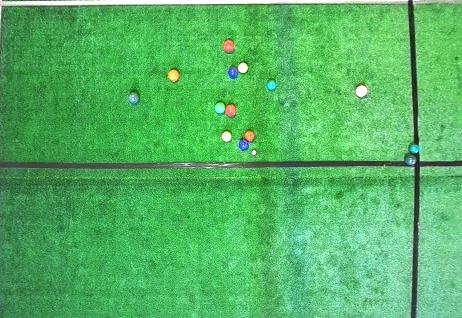blue: (228, 66, 238, 79), (239, 139, 249, 151)
green: (214, 101, 226, 115), (128, 92, 140, 104), (404, 155, 417, 166), (408, 143, 420, 154), (266, 80, 277, 91)
red: (355, 84, 368, 97), (223, 40, 235, 53), (225, 104, 237, 117), (168, 69, 179, 82), (244, 130, 255, 142)
vline: (407, 0, 461, 146), (410, 168, 461, 317), (0, 0, 5, 317)
white: (252, 150, 256, 155)
yellow: (238, 62, 248, 73), (222, 131, 232, 142)
